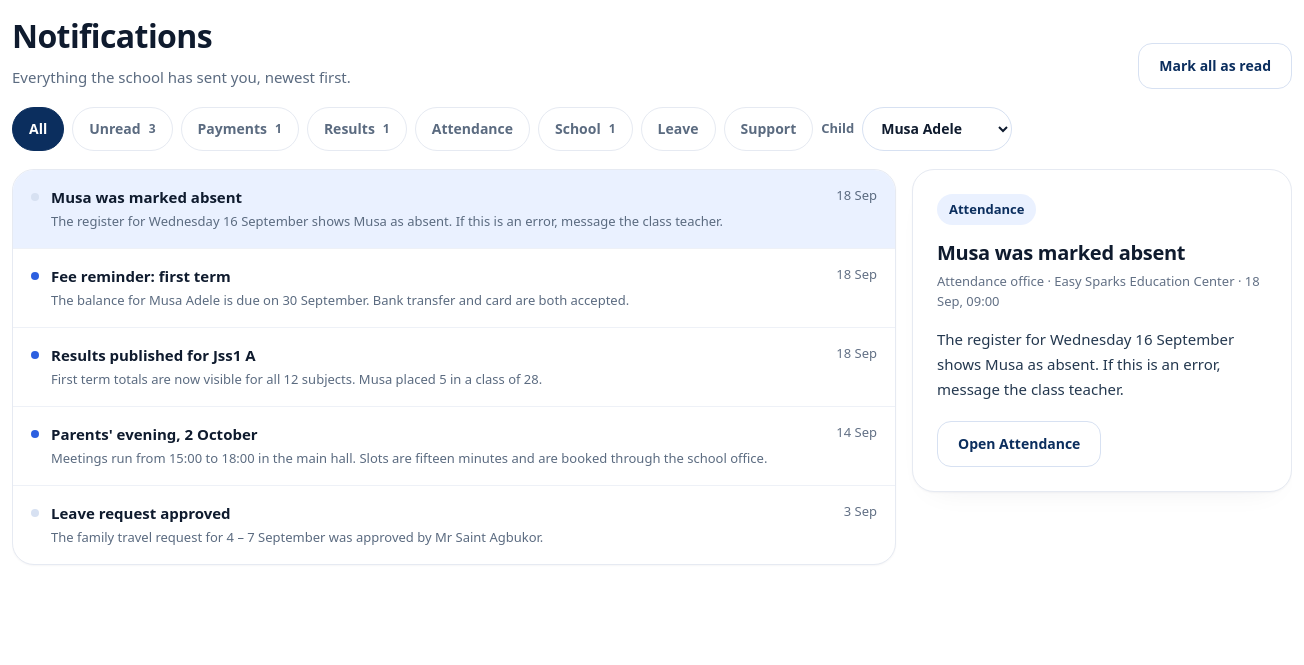
Test: Notifications (fixtures) › switches to another child or every child
The image size is (1304, 665).
Expected: the element named "Notification list" is shown, [12, 168, 896, 564]
Select "Zainab Adele" in the dropdown labelled "Child" at (937, 128), box [862, 106, 1012, 150]
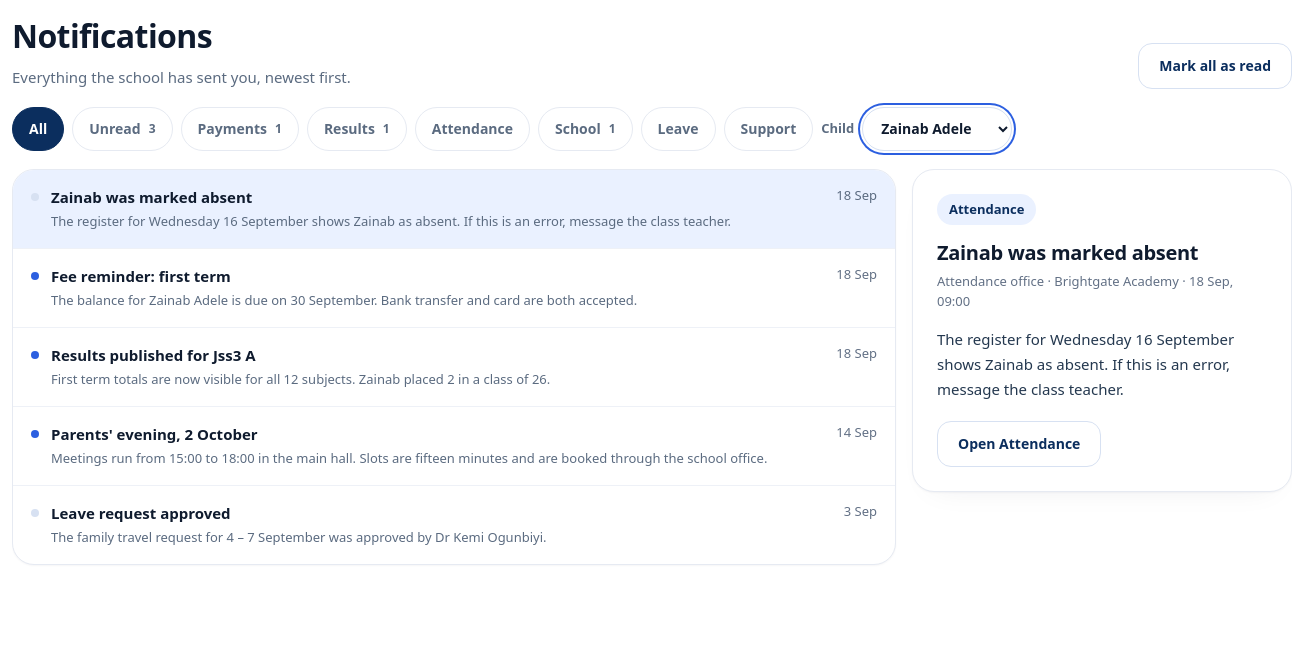
Now the text "Zainab was marked absent" is shown, box [51, 186, 252, 206]
Now the button "Musa was marked absent" is gone
Select "All children" in the dropdown labelled "Child" at (937, 128), box [862, 106, 1012, 150]
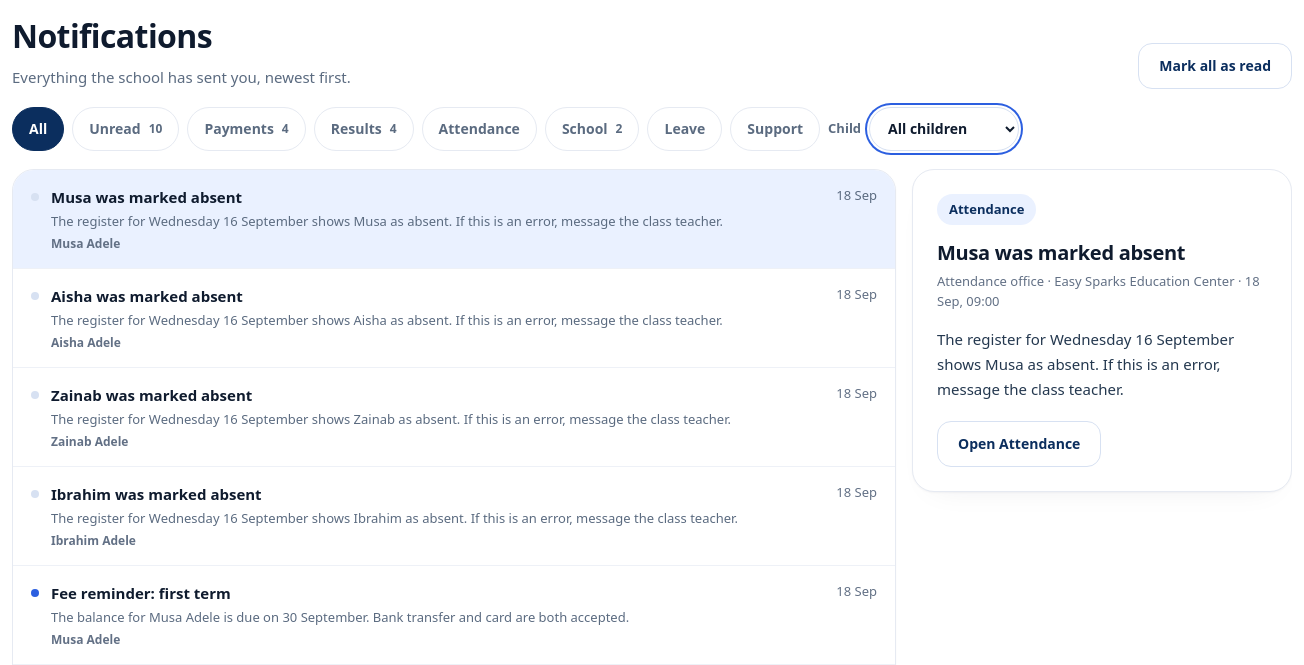
Now the text "Zainab was marked absent" is shown, box [51, 384, 252, 404]
Now the text "Musa was marked absent" is shown, box [51, 186, 242, 206]
